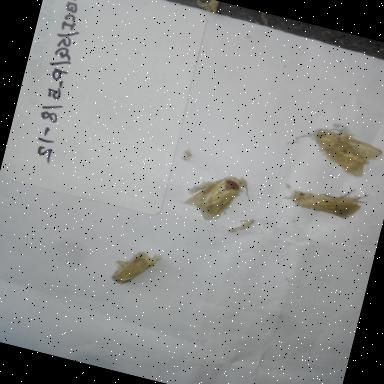abw: (276, 108, 384, 186), (174, 160, 264, 236), (282, 173, 372, 231), (106, 240, 165, 296)
